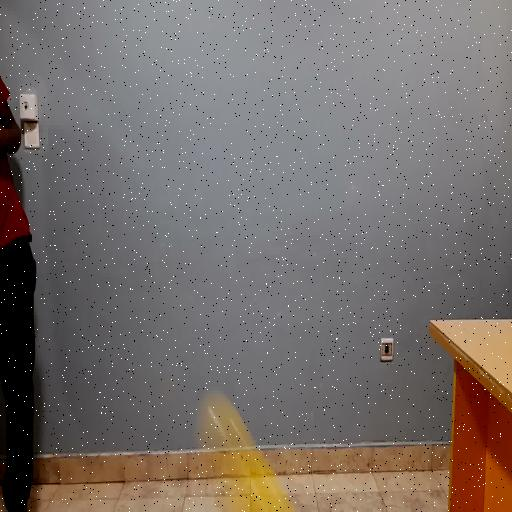plastic-ball: (198, 393, 306, 512)
